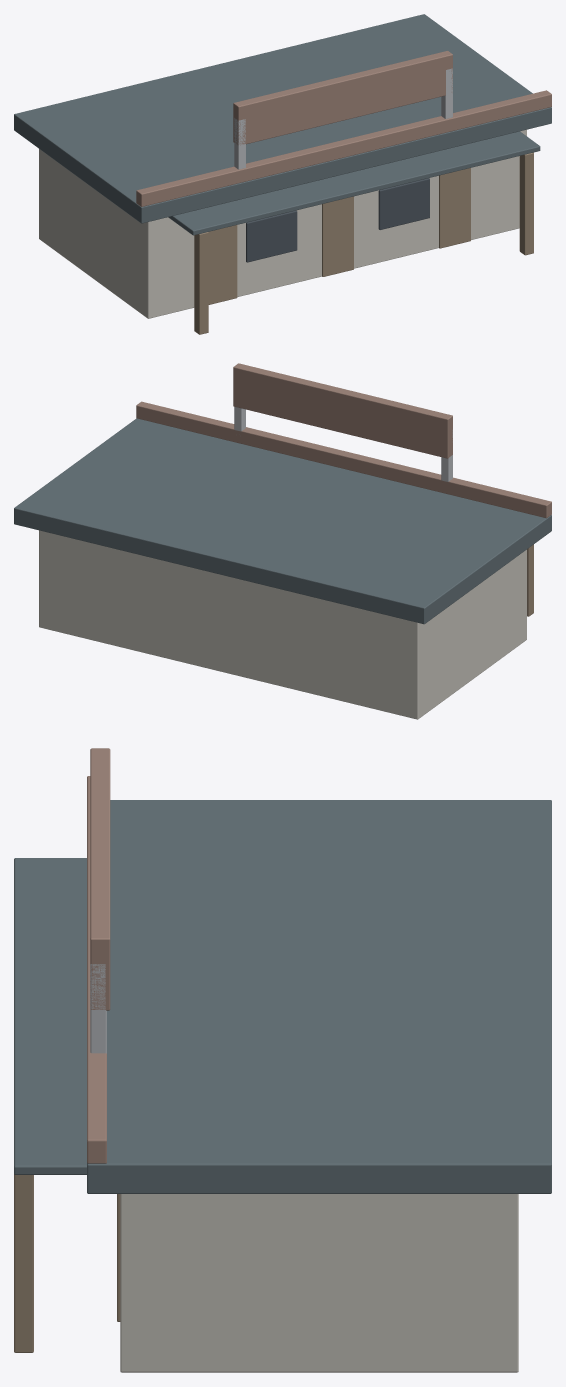
File: kit_motel_lod0.glb
3 views of the same model, one above another, from view 1: azimuth 30°, elevation 25°; view 2: azimuth 150°, elevation 25°; view 3: azimuth 270°, elevation 25° (orthographic). The views are drawn at different scales.
Visible parts, largest first — view 1: roof_slab, building, sign_panel, porch_slab, parapet_front, door_1, door_2, door_0, window_0, window_1, porch_post_0, porch_post_1 (+2 smaller); view 2: roof_slab, building, sign_panel, parapet_front, porch_post_0; view 3: roof_slab, building, porch_slab, sign_panel, porch_post_1, parapet_front, sign_post_1.
Part boxes in pixels (bbox=[...]): roof_slab: bbox=[14, 14, 551, 223]; building: bbox=[39, 129, 526, 318]; sign_panel: bbox=[233, 50, 452, 145]; porch_slab: bbox=[168, 131, 540, 235]; parapet_front: bbox=[136, 90, 551, 206]; door_1: bbox=[322, 196, 353, 276]; door_2: bbox=[439, 168, 470, 248]; door_0: bbox=[208, 225, 237, 304]; window_0: bbox=[246, 210, 297, 262]; window_1: bbox=[378, 178, 429, 229]; porch_post_0: bbox=[194, 232, 208, 334]; porch_post_1: bbox=[519, 152, 533, 255]; roof_slab: bbox=[14, 418, 551, 624]; building: bbox=[39, 530, 526, 719]; sign_panel: bbox=[233, 363, 452, 458]; parapet_front: bbox=[136, 401, 551, 518]; porch_post_0: bbox=[527, 544, 533, 616]; roof_slab: bbox=[87, 800, 551, 1193]; building: bbox=[120, 1194, 518, 1372]; porch_slab: bbox=[14, 858, 86, 1174]; sign_panel: bbox=[90, 748, 110, 1010]; porch_post_1: bbox=[14, 1174, 33, 1352]; parapet_front: bbox=[87, 776, 106, 1163]; sign_post_1: bbox=[90, 964, 106, 1053].
Size of the model in its own units: 13 by 6 by 8.1.
